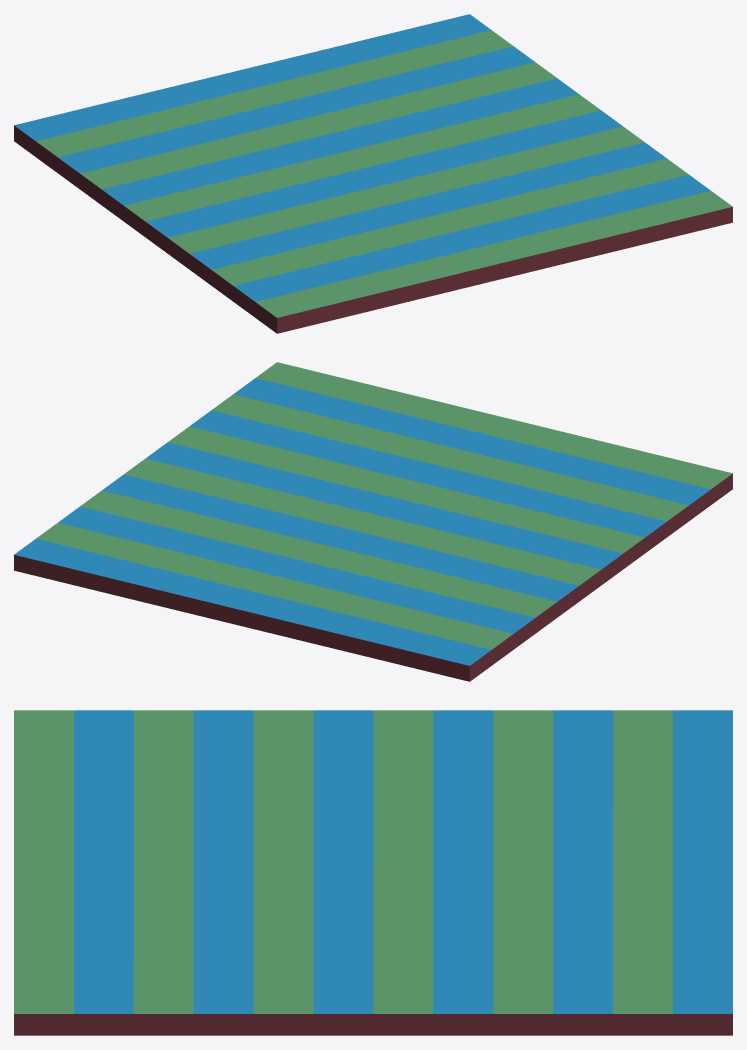
File: PisoP2.fbx
3 renders of one model, top to bottom at view 1: azimuth 30°, elevation 25°; view 2: azimuth 150°, elevation 25°; view 3: azimuth 270°, elevation 25°, orthographic. The views are drawn at different scales.
Parts seen in each view (by area): view 1: PisoP2; view 2: PisoP2; view 3: PisoP2.
Part boxes in pixels (x1,y1,x2,y2): PisoP2: (14, 14, 732, 333); PisoP2: (14, 362, 732, 681); PisoP2: (14, 710, 732, 1035).
Bounding box in the file's own units: 6000 × 200 × 6000.
Materials: 1 (1 with a texture image).
